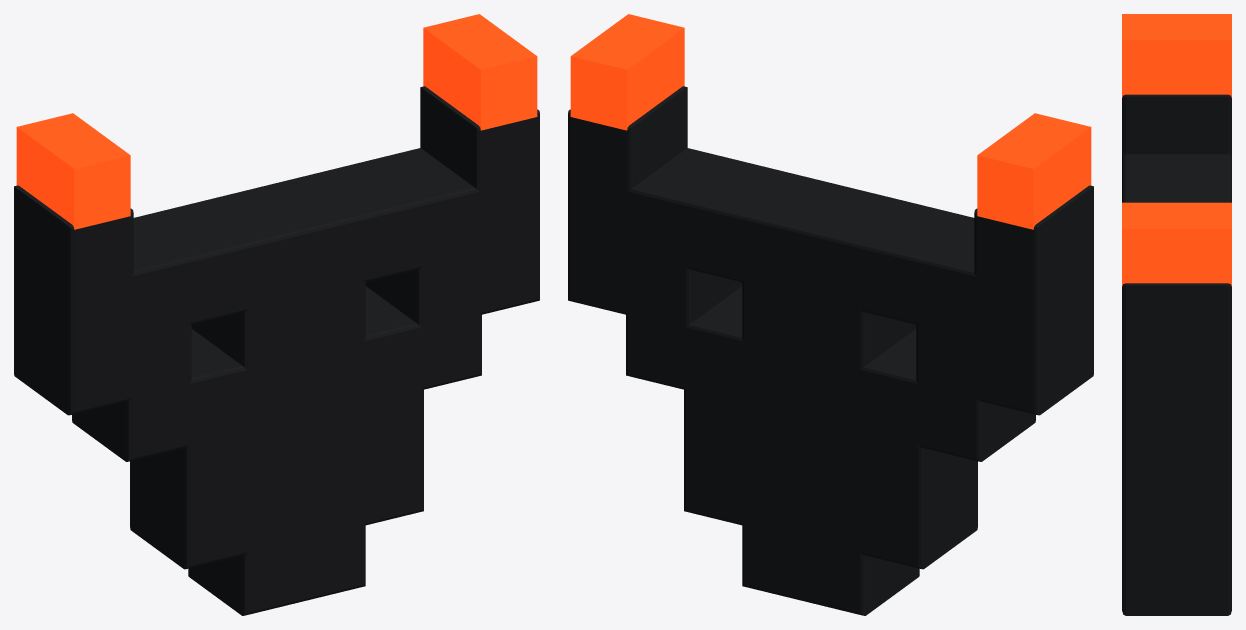
File: ox81-mark.glb
3 renders of one model, left to right at view 1: azimuth 30°, elevation 25°; view 2: azimuth 150°, elevation 25°; view 3: azimuth 270°, elevation 25°, orthographic. The views are drawn at different scales.
Visible parts, largest first — view 1: mark-body, mark-bit-7, mark-bit-0; view 2: mark-body, mark-bit-7, mark-bit-0; view 3: mark-body, mark-bit-0, mark-bit-7.
Boxes of the visible parts, <box> form: mark-body: <box>14,86,539,615</box>; mark-bit-7: <box>16,113,130,229</box>; mark-bit-0: <box>423,14,537,130</box>; mark-body: <box>568,86,1093,615</box>; mark-bit-7: <box>977,113,1091,229</box>; mark-bit-0: <box>570,14,684,130</box>; mark-body: <box>1122,94,1231,615</box>; mark-bit-0: <box>1122,202,1231,286</box>; mark-bit-7: <box>1122,14,1231,97</box>.
Bounding box in the file's own units: 8.12 × 8.06 × 1.72.
